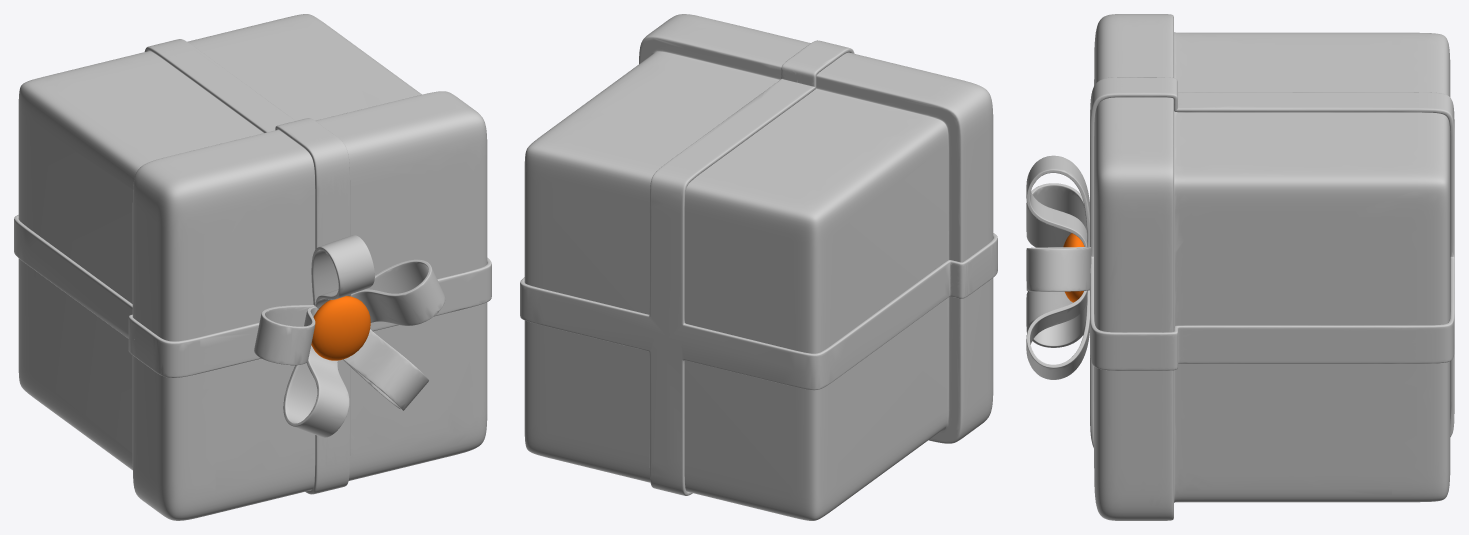
The model's file is gift.glb.
The picture shows the model from 3 angles, left to right: view 1: azimuth 30°, elevation 25°; view 2: azimuth 150°, elevation 25°; view 3: azimuth 270°, elevation 25°; orthographic projection. The views are drawn at different scales.
Visible parts, largest first — view 1: Cube.002; view 2: Cube.002; view 3: Cube.002.
Boxes of the visible parts, bbox=[...] form: Cube.002: bbox=[14, 14, 491, 520]; Cube.002: bbox=[520, 14, 997, 520]; Cube.002: bbox=[1026, 14, 1454, 520].
Bounding box in the file's own units: 1.75 × 1.75 × 1.87.
